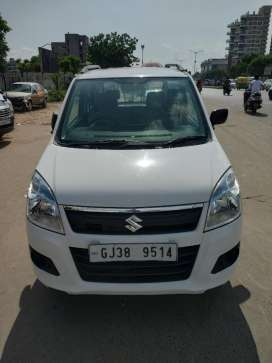nameplate: (88, 244, 177, 262)
